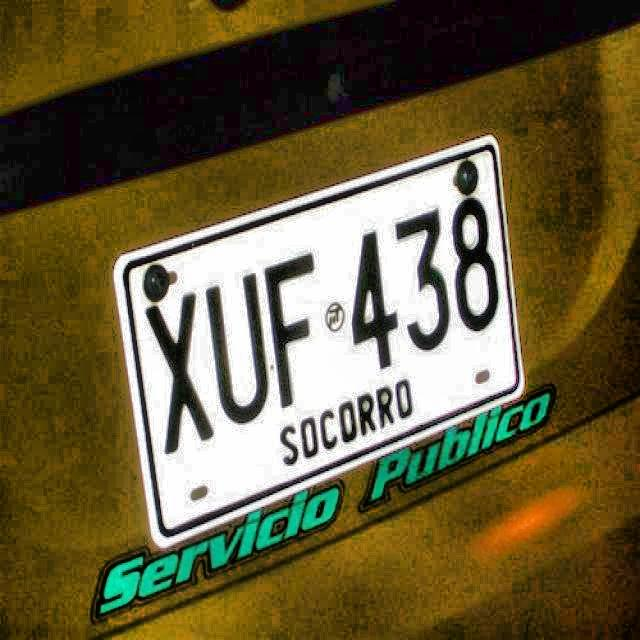plate: (120, 141, 523, 543)
